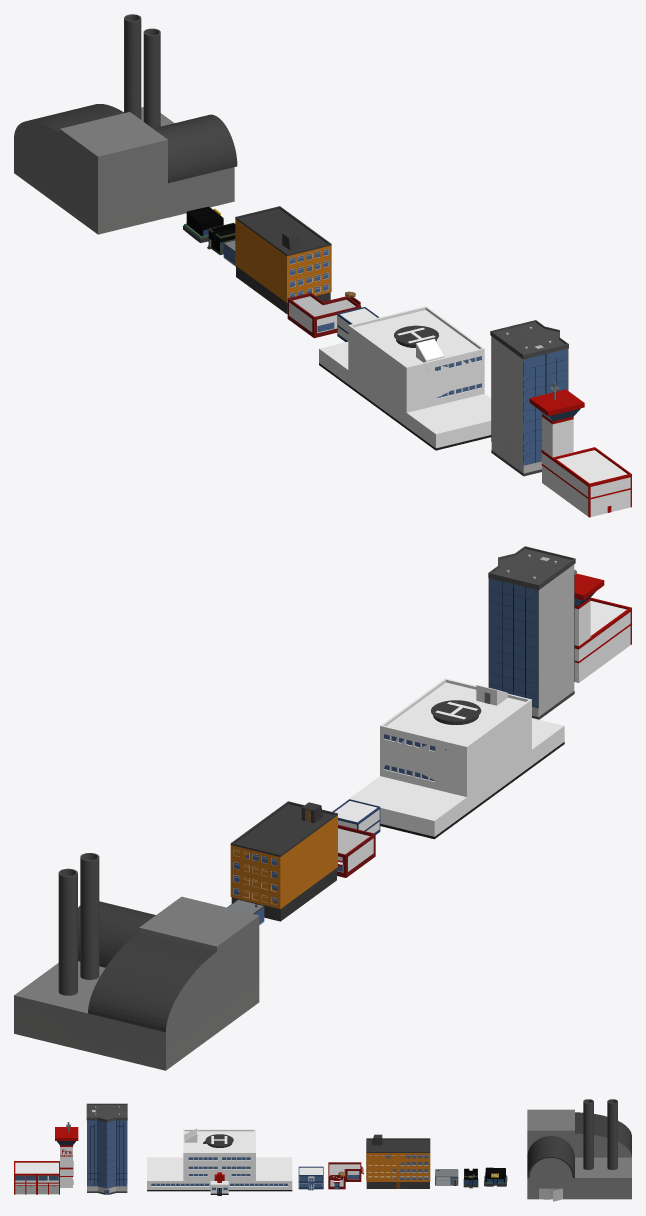
File: All objects.fbx
The picture shows the model from 3 angles, top to bottom: view 1: azimuth 30°, elevation 25°; view 2: azimuth 150°, elevation 25°; view 3: azimuth 270°, elevation 25°; orthographic projection. The views are drawn at different scales.
Visible parts, largest first — view 1: Building_Factory_Industrial, Building_Hospital, Building_Skyscraper, Building_Apartament_Low, Building_FireStation, Building_Burger, Building_PizzaTime, Building_Bank; view 2: Building_Factory_Industrial, Building_Hospital, Building_Skyscraper, Building_Apartament_Low, Building_FireStation, Building_Burger, Building_Bank; view 3: Building_Factory_Industrial, Building_Hospital, Building_Skyscraper, Building_Apartament_Low, Building_FireStation, Building_Burger, Building_Bank, Building_PizzaTime, Building_Garage, Building_Coffee.
Part boxes in pixels (x1,y1,x2,y2): Building_Factory_Industrial: (14,14,237,234); Building_Hospital: (319,306,491,450); Building_Skyscraper: (490,320,568,476); Building_Apartament_Low: (235,206,331,313); Building_FireStation: (529,389,631,517); Building_Burger: (287,291,361,338); Building_PizzaTime: (183,206,223,242); Building_Bank: (337,307,379,341); Building_Factory_Industrial: (14,853,259,1070); Building_Hospital: (348,678,564,839); Building_Skyscraper: (488,546,575,719); Building_Apartament_Low: (230,801,337,921); Building_FireStation: (574,573,631,682); Building_Burger: (337,824,375,877); Building_Bank: (332,799,380,834); Building_Factory_Industrial: (527,1099,631,1201); Building_Hospital: (147,1128,292,1195); Building_Skyscraper: (86,1103,127,1194); Building_Apartament_Low: (366,1134,430,1188); Building_FireStation: (14,1127,78,1194); Building_Burger: (328,1162,363,1189); Building_Bank: (298,1166,323,1190); Building_PizzaTime: (484,1167,507,1186); Building_Garage: (435,1169,458,1185); Building_Coffee: (463,1168,478,1188).
Bounding box in the file's own units: 56.77 × 53.24 × 338.
Materials: 1 (1 with a texture image).
